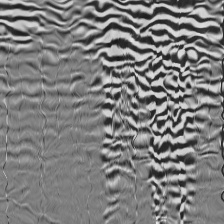cavities: (100, 2, 197, 216)
